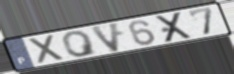6: (127, 19, 157, 46)
7: (187, 6, 216, 37)
Q: (60, 29, 101, 58)
V: (88, 21, 123, 54)
X: (154, 10, 196, 44), (27, 33, 68, 66)
